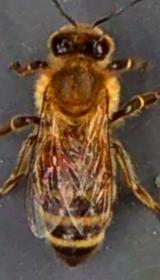varroa_mite: (42, 146, 69, 174)
